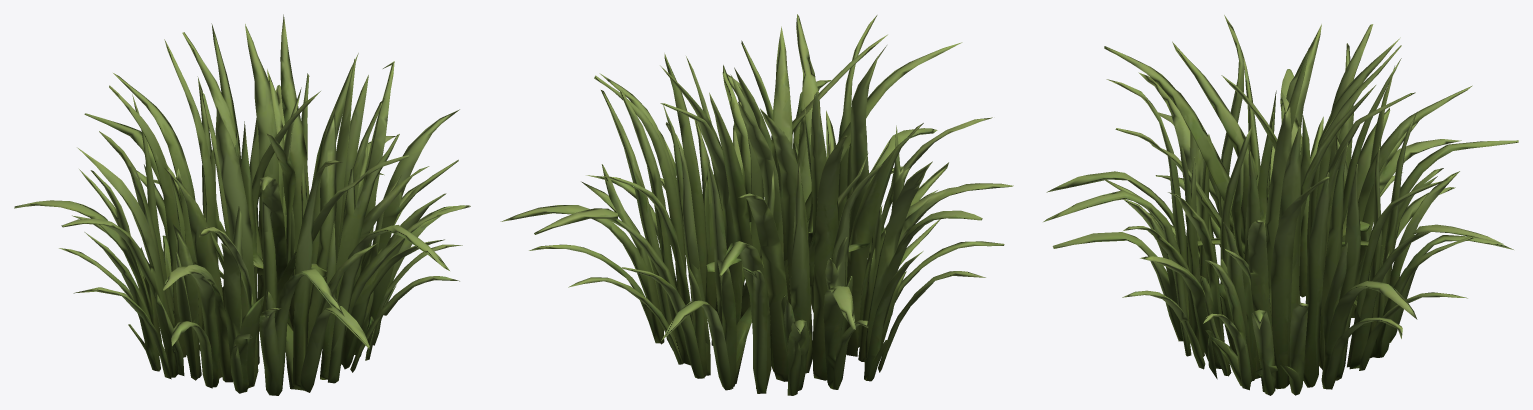
Rendered from grass.glb.
The picture shows the model from 3 angles, left to right: view 1: azimuth 30°, elevation 25°; view 2: azimuth 150°, elevation 25°; view 3: azimuth 270°, elevation 25°; orthographic projection. The views are drawn at different scales.
Visible parts, largest first — view 1: tripo_node_dddf57be-60dc-4a97-8268-5d9b396131f4; view 2: tripo_node_dddf57be-60dc-4a97-8268-5d9b396131f4; view 3: tripo_node_dddf57be-60dc-4a97-8268-5d9b396131f4.
Part boxes in pixels (x1,y1,x2,y2): tripo_node_dddf57be-60dc-4a97-8268-5d9b396131f4: (14, 14, 470, 395); tripo_node_dddf57be-60dc-4a97-8268-5d9b396131f4: (500, 14, 1013, 395); tripo_node_dddf57be-60dc-4a97-8268-5d9b396131f4: (1043, 15, 1518, 395).
Bounding box in the file's own units: 0.9758 × 0.6818 × 1.
Materials: 1 (1 with a texture image).
